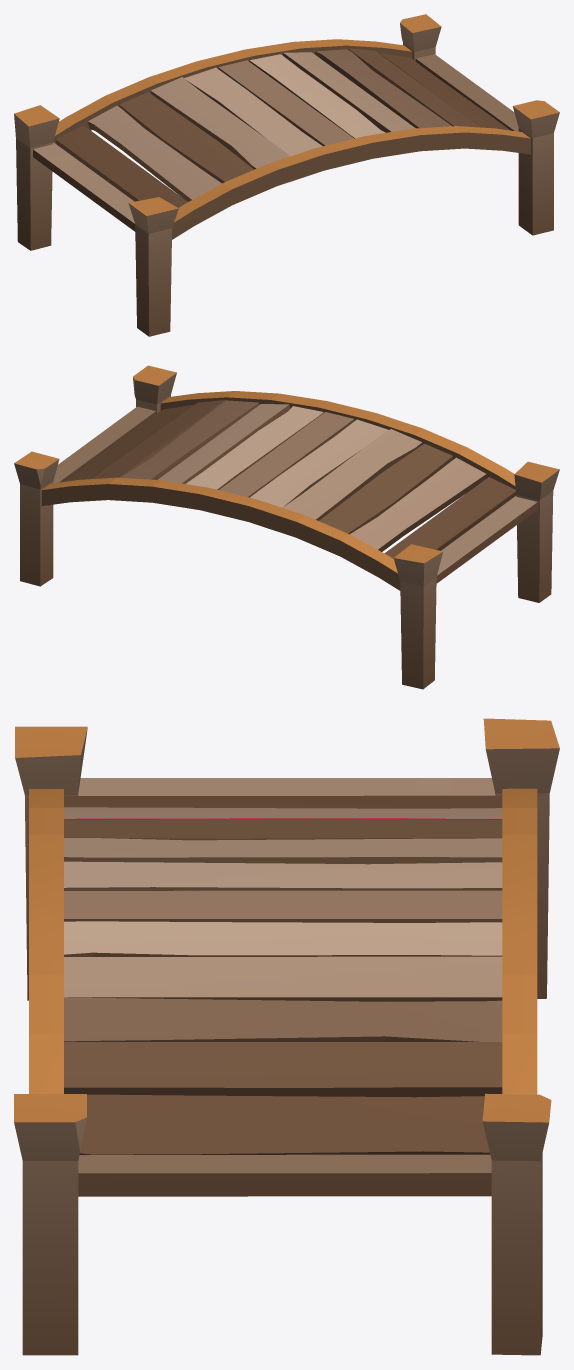
The model's file is Asset_BridgeWoodCurvedA.glb.
The picture shows the model from 3 angles, top to bottom: view 1: azimuth 30°, elevation 25°; view 2: azimuth 150°, elevation 25°; view 3: azimuth 270°, elevation 25°; orthographic projection. The views are drawn at different scales.
Visible parts, largest first — view 1: Mesh.007; view 2: Mesh.007; view 3: Mesh.007.
Part boxes in pixels (<box>): Mesh.007: <box>14,14,559,336</box>; Mesh.007: <box>14,365,559,689</box>; Mesh.007: <box>14,718,559,1355</box>.
Size of what is drawn, in the model's own units: 5.08 by 1.63 by 2.91.
1 material, 1 textured.
